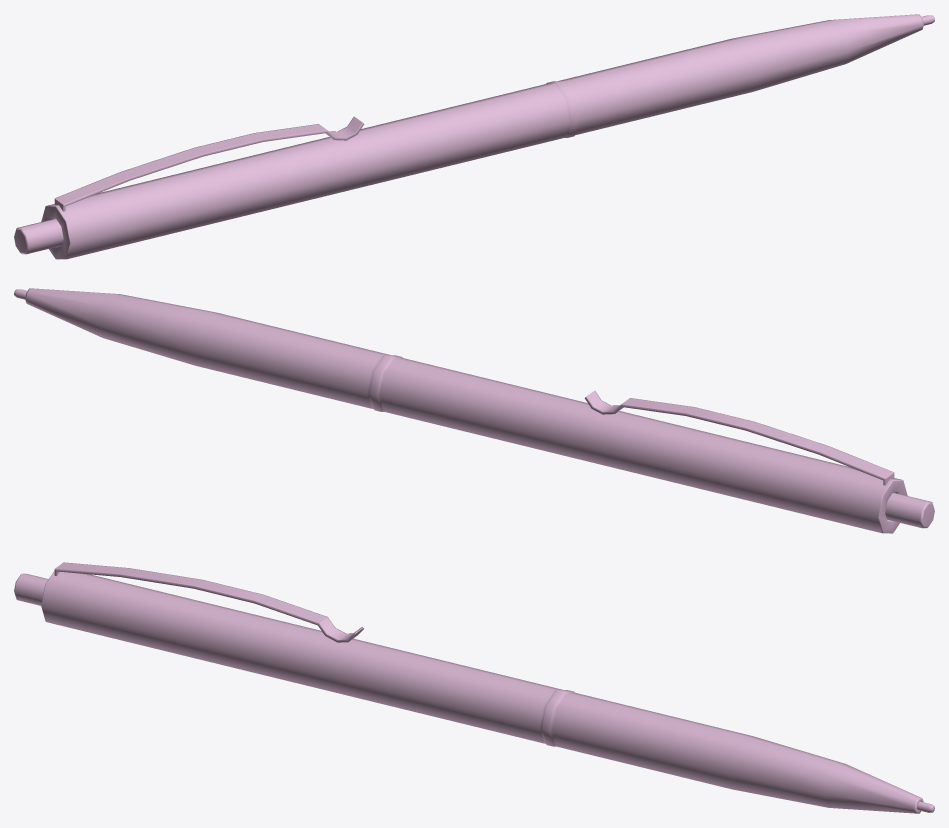
The model's file is pen.fbx.
3 renders of one model, top to bottom at view 1: azimuth 30°, elevation 25°; view 2: azimuth 150°, elevation 25°; view 3: azimuth 330°, elevation 25°, orthographic.
Parts seen in each view (by area): view 1: StructureOBJ:Mesh30; view 2: StructureOBJ:Mesh30; view 3: StructureOBJ:Mesh30.
Boxes of the visible parts, x1,y1,x2,y2 form: StructureOBJ:Mesh30: (14,14,934,259); StructureOBJ:Mesh30: (14,288,934,533); StructureOBJ:Mesh30: (14,562,934,813).
Size of the model in its own units: 0.1526 by 0.0119 by 0.00882.
